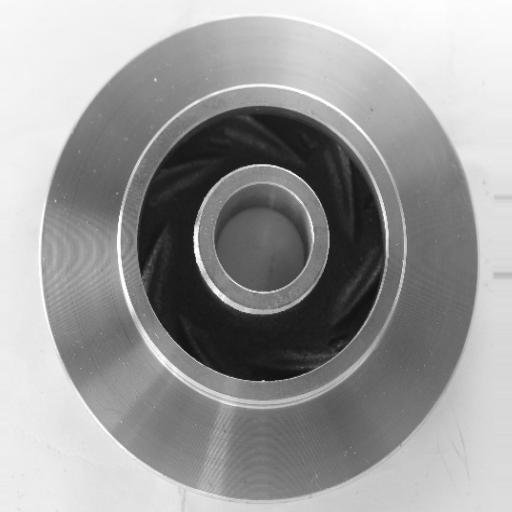polished_casting: (37, 13, 481, 503)
